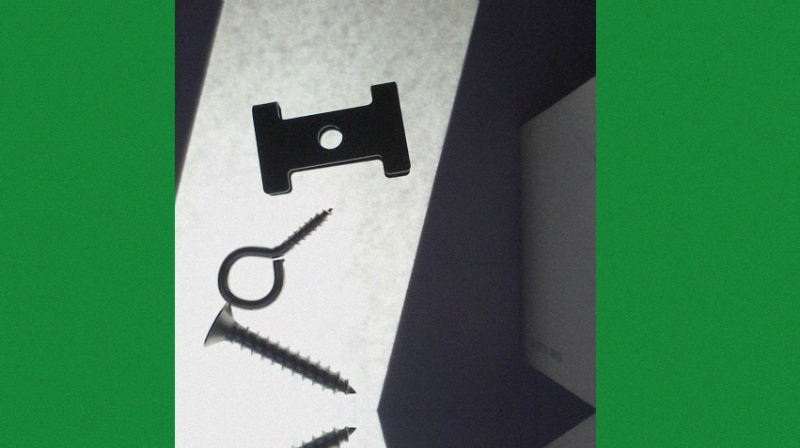O001: (213, 202, 337, 308)
O002: (248, 77, 412, 196)
S001: (202, 303, 358, 396)
